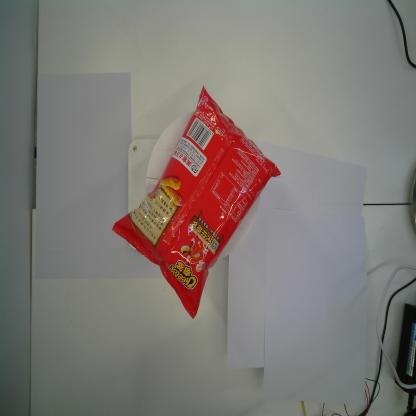Puffed Food: (110, 84, 281, 321)
